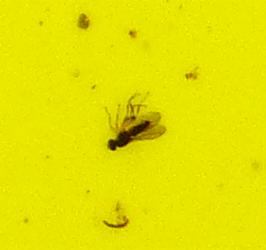Brachycera: (100, 100, 166, 150)
